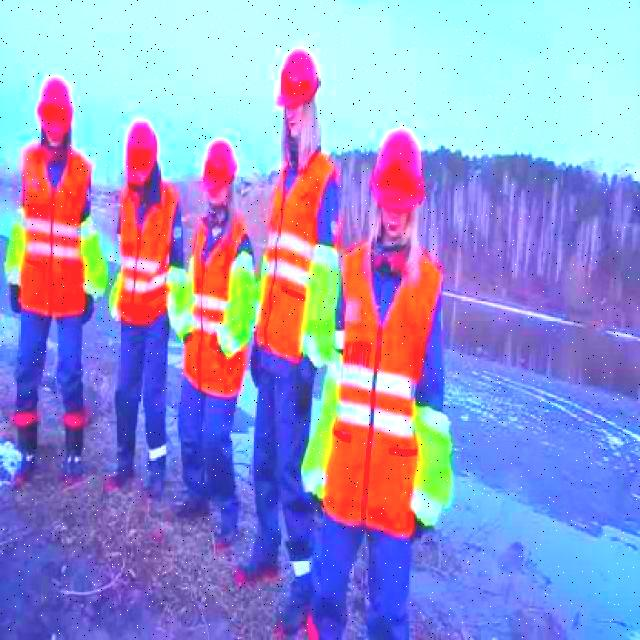Gloves: (252, 334, 260, 386), (8, 287, 21, 315), (83, 294, 94, 322)
Helmet: (368, 131, 422, 211), (273, 52, 322, 108), (36, 76, 76, 133), (126, 120, 160, 185), (200, 138, 237, 191)
Mask: (300, 230, 456, 638), (236, 150, 342, 630), (324, 249, 442, 546), (5, 150, 106, 492), (178, 212, 252, 546), (110, 177, 184, 492), (258, 150, 338, 367), (185, 215, 250, 398), (20, 151, 91, 314), (118, 170, 174, 324), (300, 349, 340, 503), (408, 404, 454, 530), (299, 242, 338, 368), (216, 252, 256, 360), (82, 219, 110, 296), (4, 200, 27, 286), (168, 259, 186, 330), (181, 255, 196, 336), (110, 266, 122, 322)
